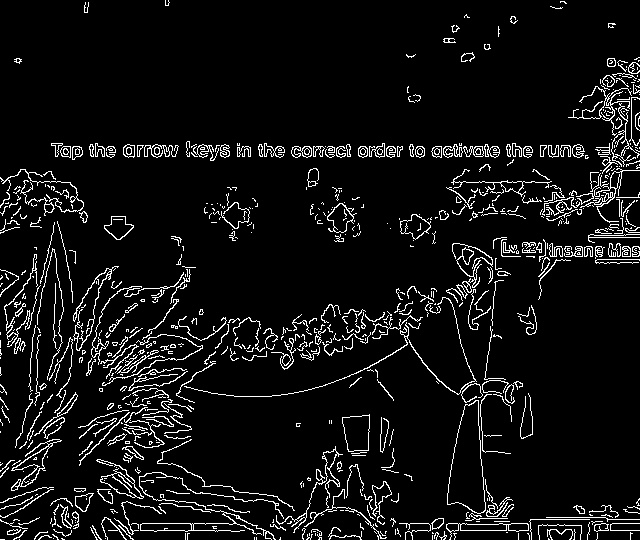down: (94, 209, 139, 244)
left: (214, 198, 261, 236)
right: (390, 209, 433, 248)
up: (322, 199, 359, 239)
